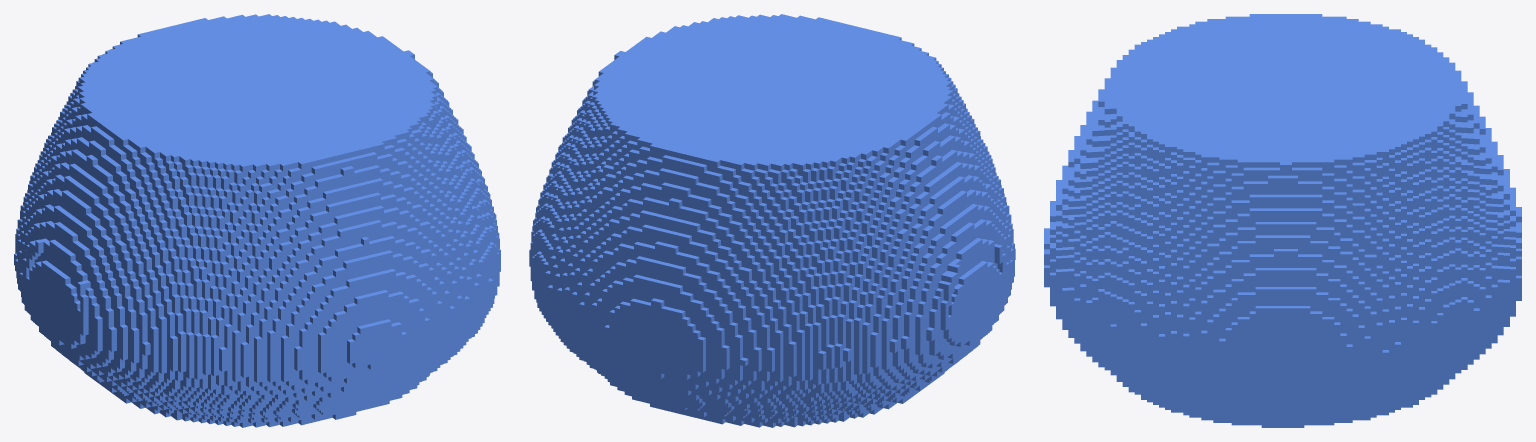
File: Level4_boss_level.dae
3 renders of one model, left to right at view 1: azimuth 30°, elevation 25°; view 2: azimuth 150°, elevation 25°; view 3: azimuth 270°, elevation 25°, orthographic.
Visible parts, largest first — view 1: level4_boss_level.boss_level; view 2: level4_boss_level.boss_level; view 3: level4_boss_level.boss_level.
Part boxes in pixels (x1,y1,x2,y2): level4_boss_level.boss_level: [14, 14, 500, 427]; level4_boss_level.boss_level: [529, 14, 1015, 427]; level4_boss_level.boss_level: [1044, 14, 1521, 427].
Size of the model in its own units: 7.8 by 4.9 by 7.9.
1 material, 1 textured.
